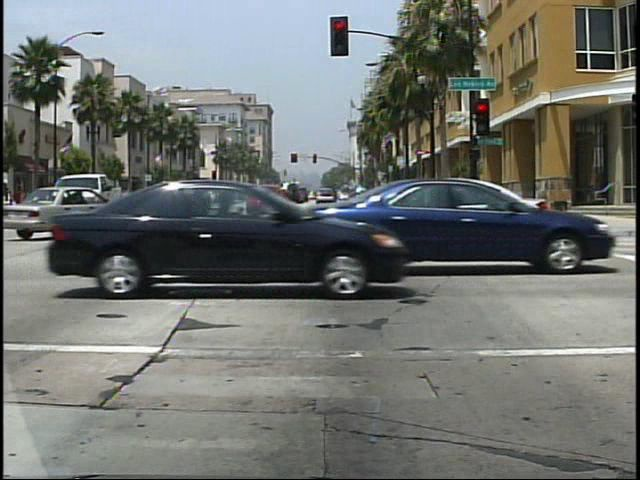person: (2, 172, 21, 232)
